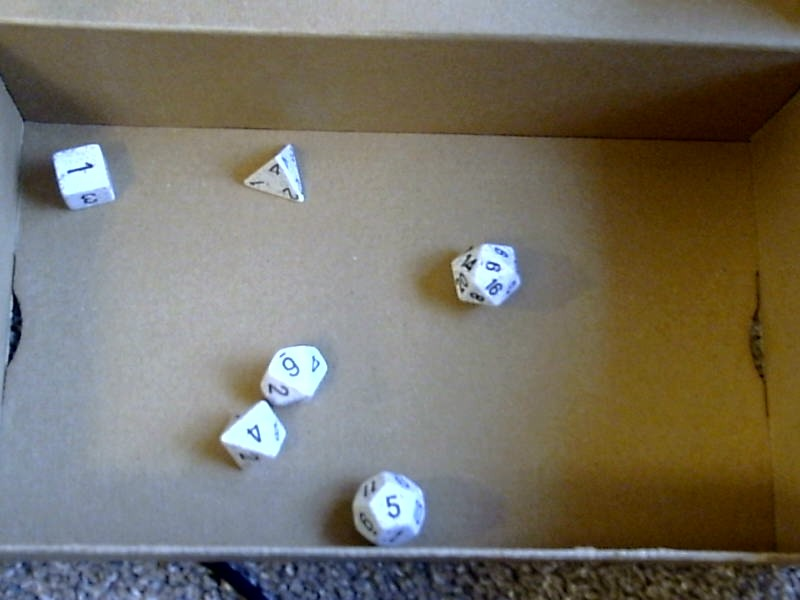d10 6: (260, 340, 331, 405)
d12 5: (347, 467, 428, 547)
d20 6: (442, 237, 528, 320)
d4 4: (238, 142, 307, 210)
d6 1: (44, 139, 119, 213)
d8 4: (208, 402, 287, 474)
